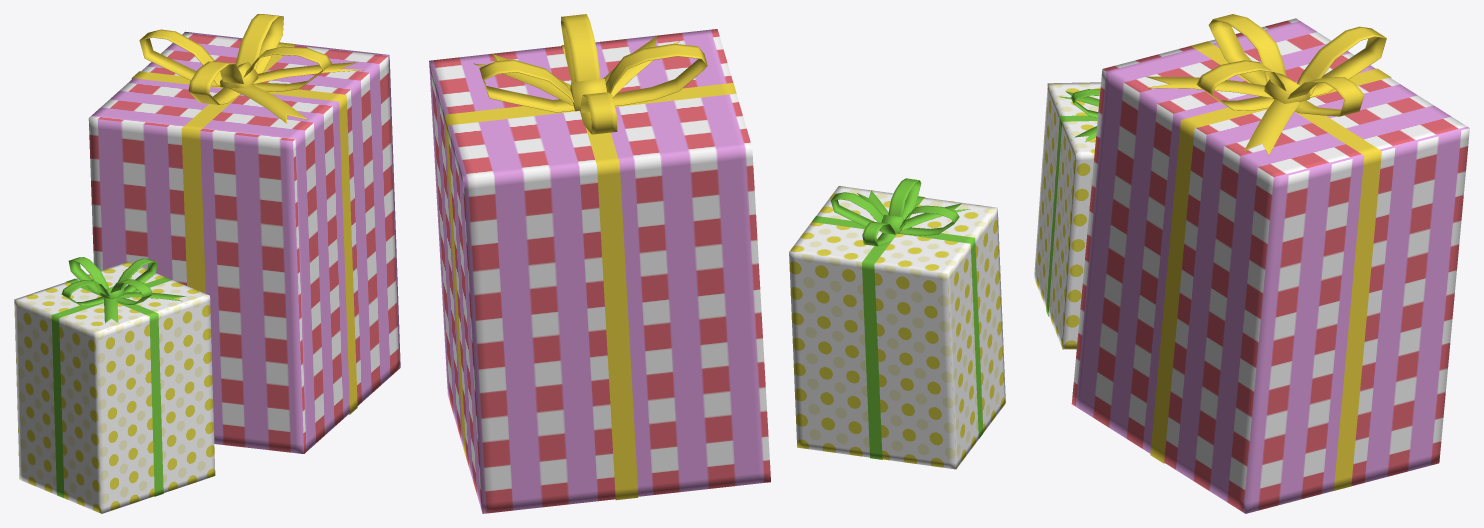
The model's file is Paket_2.glb.
The picture shows the model from 3 angles, left to right: view 1: azimuth 30°, elevation 25°; view 2: azimuth 150°, elevation 25°; view 3: azimuth 270°, elevation 25°; orthographic projection. The views are drawn at different scales.
Visible parts, largest first — view 1: Paket.002; view 2: Paket.002; view 3: Paket.002.
Part boxes in pixels (x1,y1,x2,y2): Paket.002: (14, 14, 400, 513); Paket.002: (429, 14, 1005, 513); Paket.002: (1034, 14, 1469, 513).
Bounding box in the file's own units: 1.37 × 1.13 × 1.11.
4 materials, 2 textured.
